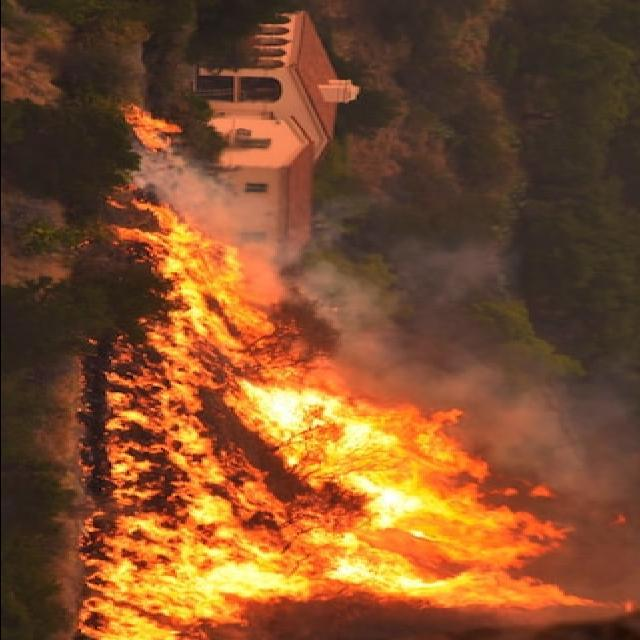Fire: (76, 189, 614, 639)
